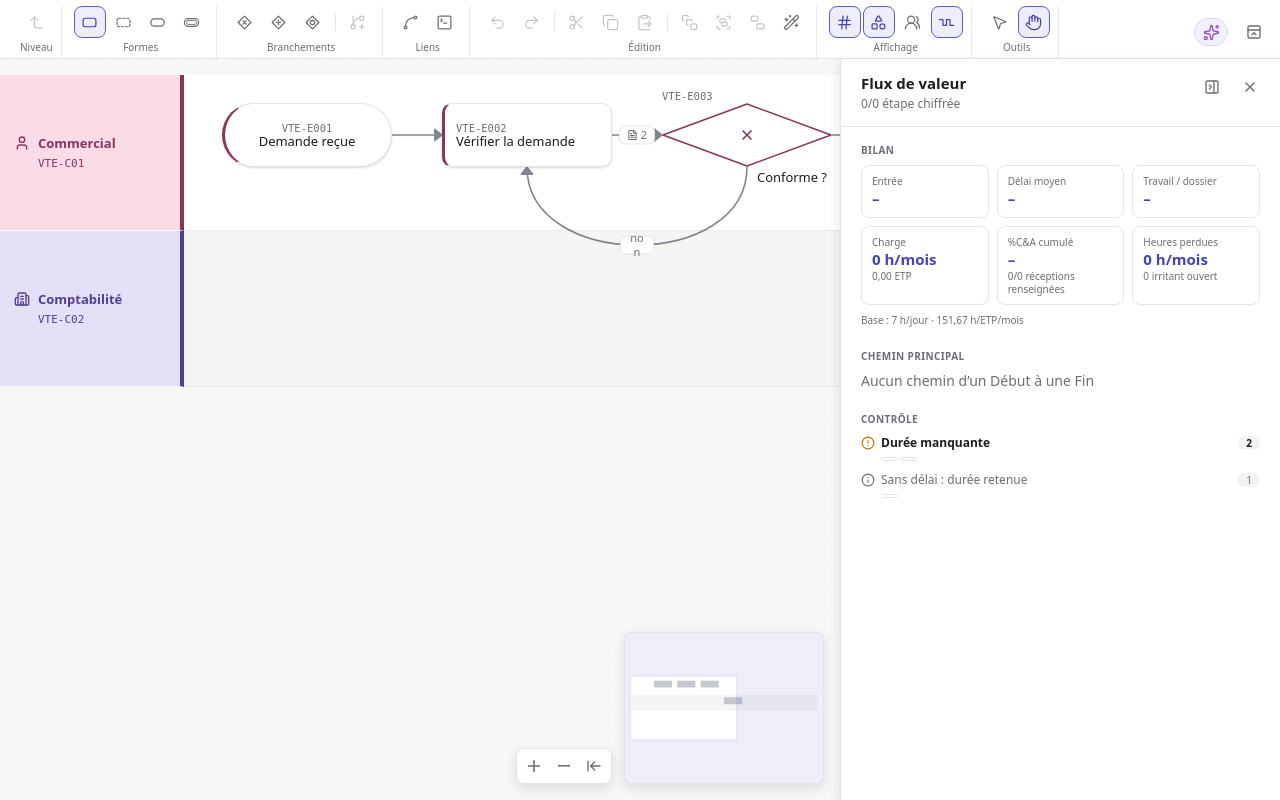
it: a panel folded (spec 3.0 section 15.2) › becomes a strip with its title and its warnings, the room of the notifications following; a click opens it again
Click the button with test id "panel-fold" at point(1212, 87), box [1198,73,1226,101]
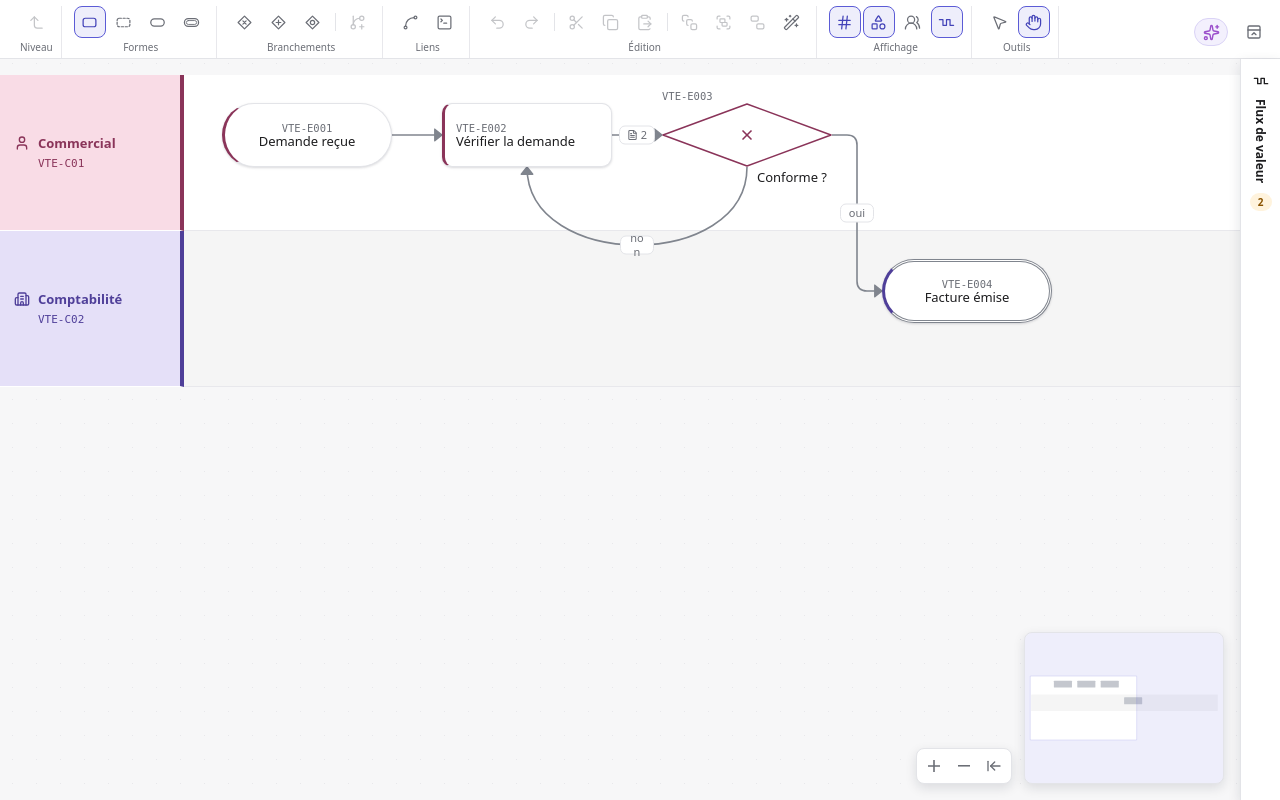
Expected: the button with test id "side-dock-strip" reads "Flux de valeur 2"
Expected: the element with test id "stream-panel" is gone
Click the button with test id "side-dock-strip" at point(1260, 430), box [1240,59,1279,799]
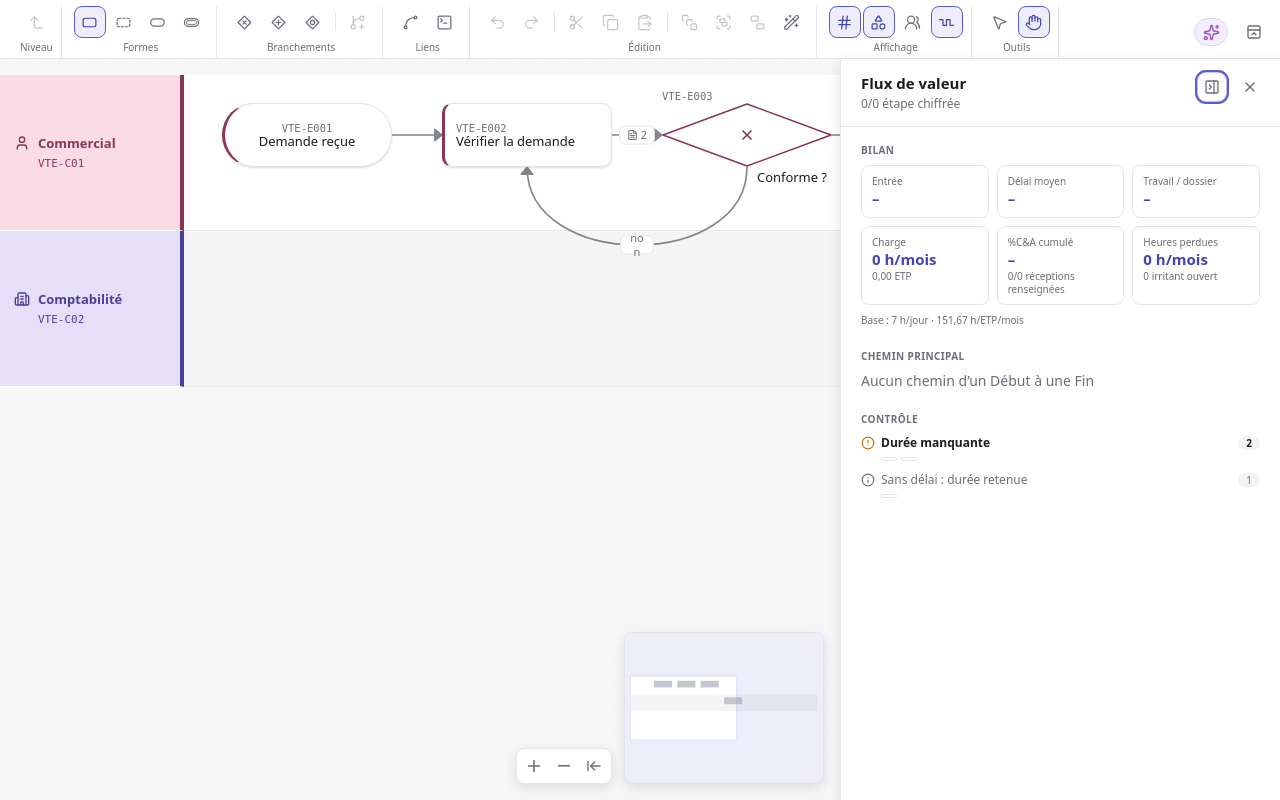
Expected: the element with test id "stream-panel" is shown, [840,59,1279,799]
Note: The layer turned off, the frame leaves: the notifications take their corner again.
Click the button with test id "stream-panel-close" at point(1250, 87), box [1236,73,1264,101]
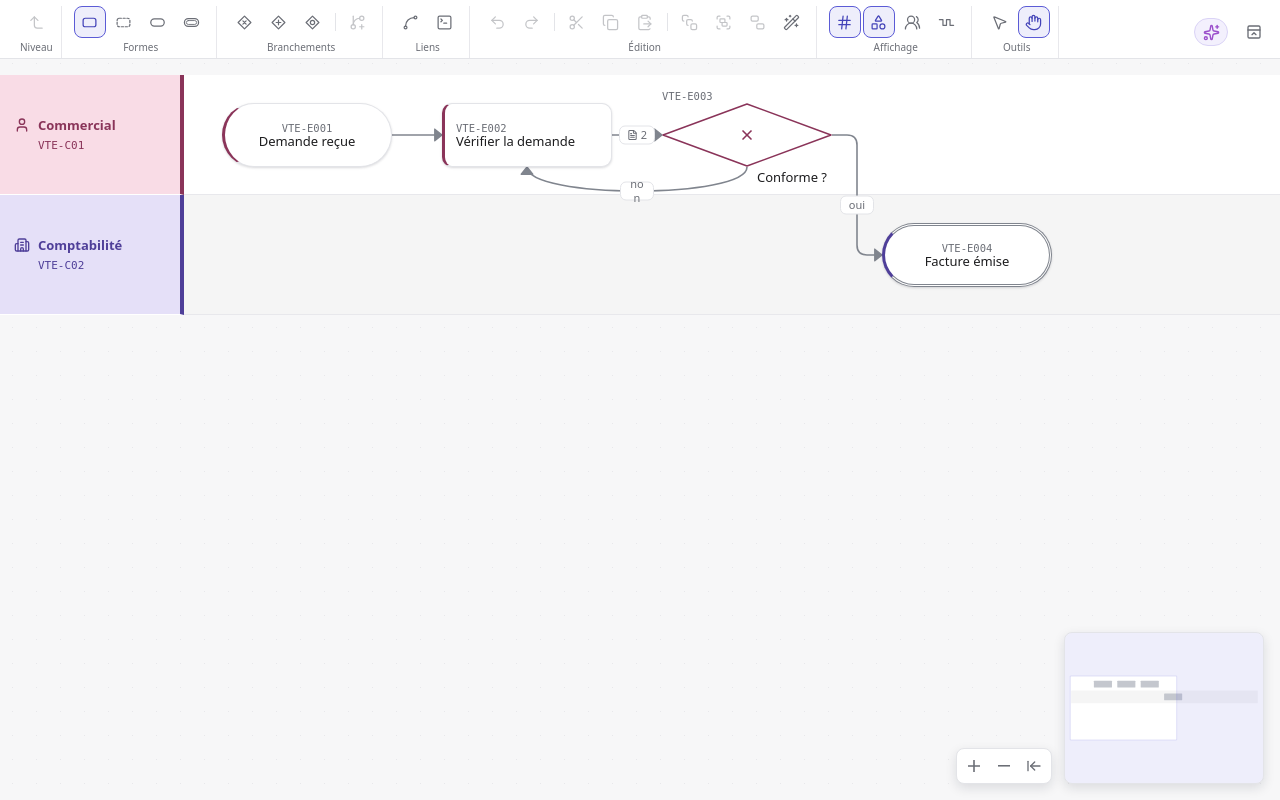
Expected: the element with test id "side-dock" is gone
